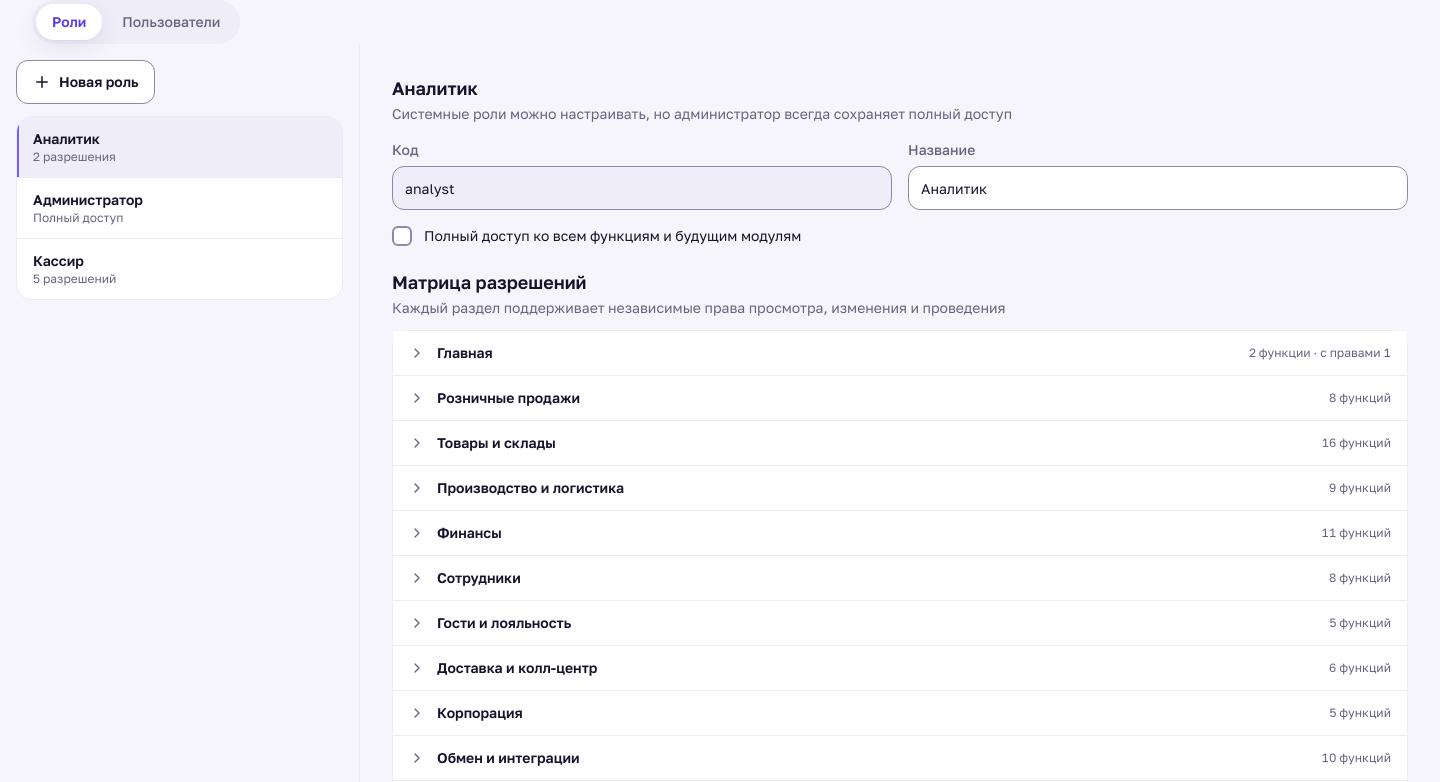
Test case: «Роли и права» (W1-ACL-05) › switches to «Пользователи» through the URL
The image size is (1440, 782).
Click the tab "Пользователи" at (171, 22), box left=106, top=4, right=236, bottom=40
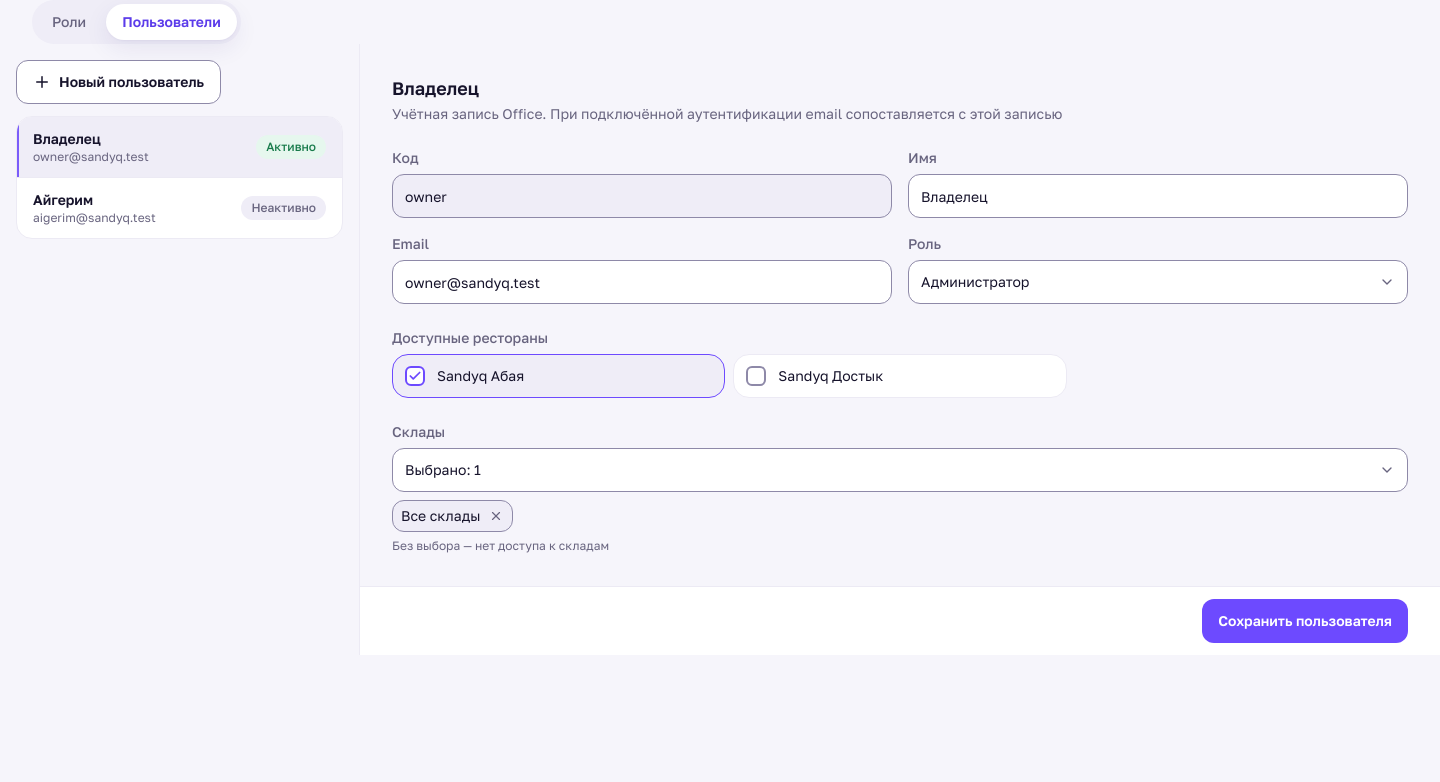
Now the form "Учётная запись Office" is shown, box left=360, top=44, right=1439, bottom=655
